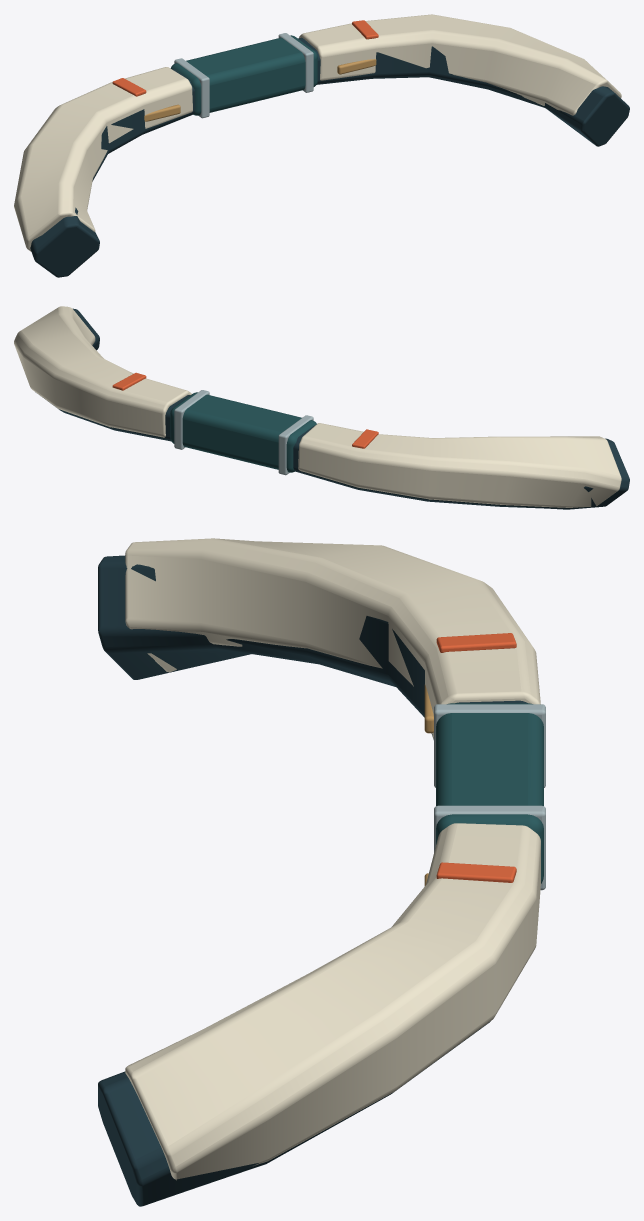
The model's file is SM_Mk2_GuardBrow.fbx.
3 views of the same model, one above another, from view 1: azimuth 30°, elevation 25°; view 2: azimuth 150°, elevation 25°; view 3: azimuth 270°, elevation 25° (orthographic). The views are drawn at different scales.
Parts seen in each view (by area): view 1: SM_Mk2_GuardBrow; view 2: SM_Mk2_GuardBrow; view 3: SM_Mk2_GuardBrow.
Part boxes in pixels (x1,y1,x2,y2): SM_Mk2_GuardBrow: (14,14,629,277); SM_Mk2_GuardBrow: (14,306,629,509); SM_Mk2_GuardBrow: (98,538,545,1206).
Size of the model in its own units: 103 by 33.55 by 15.33.
